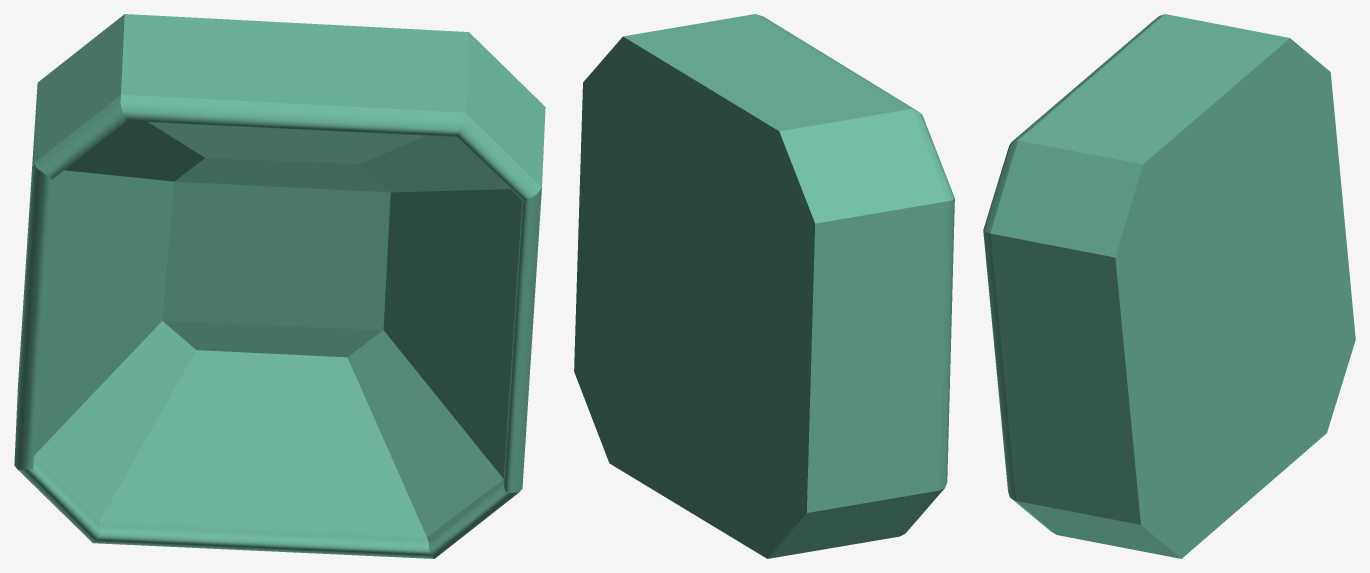
File: TL2_8shapes_Square_Classic_Metal.001 3.glb
3 views of the same model, side by side, from view 1: azimuth 30°, elevation 25°; view 2: azimuth 150°, elevation 25°; view 3: azimuth 270°, elevation 25° (orthographic). The views are drawn at different scales.
Parts seen in each view (by area): view 1: TL2_8shapes_Square_Classic_Metal.001; view 2: TL2_8shapes_Square_Classic_Metal.001; view 3: TL2_8shapes_Square_Classic_Metal.001.
Part boxes in pixels (box(x1,y1,x2,y2)): TL2_8shapes_Square_Classic_Metal.001: box(14, 14, 545, 558); TL2_8shapes_Square_Classic_Metal.001: box(574, 14, 954, 558); TL2_8shapes_Square_Classic_Metal.001: box(983, 14, 1355, 558).
Bounding box in the file's own units: 0.5824 × 0.5817 × 0.4651.
